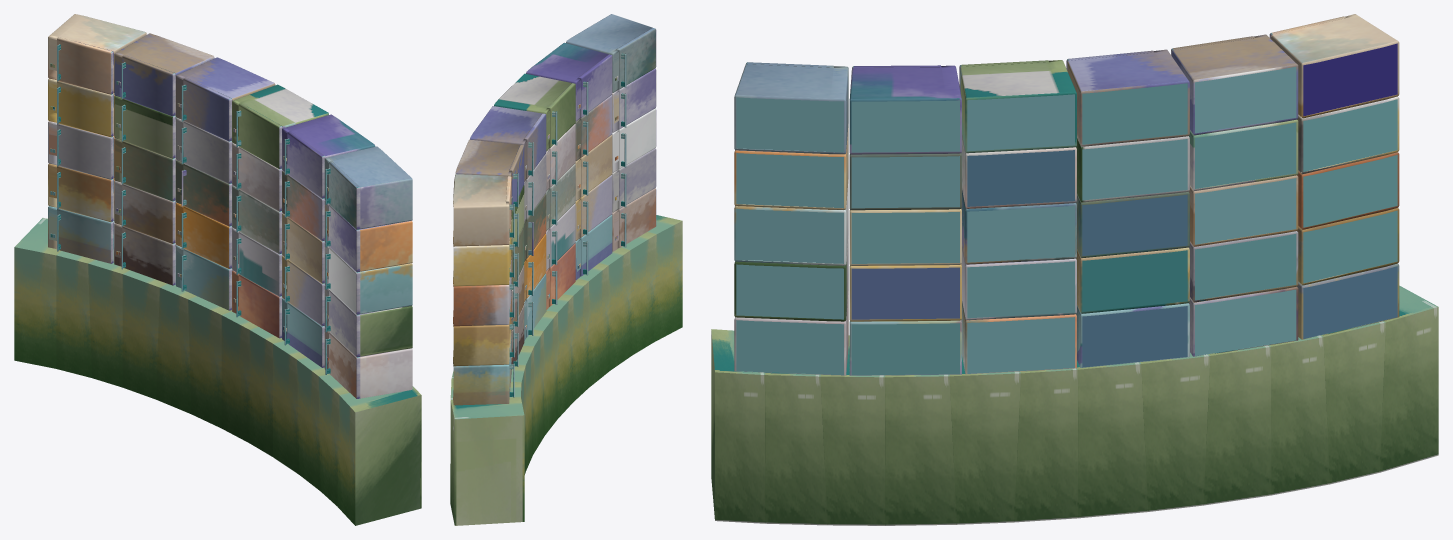
File: LO_cafe_cubes.glb
3 renders of one model, left to right at view 1: azimuth 30°, elevation 25°; view 2: azimuth 150°, elevation 25°; view 3: azimuth 270°, elevation 25°, orthographic. The views are drawn at different scales.
Visible parts, largest first — view 1: self-service cubbies; view 2: self-service cubbies; view 3: self-service cubbies.
Boxes of the visible parts, x1,y1,x2,y2 form: self-service cubbies: [14, 14, 421, 525]; self-service cubbies: [450, 14, 682, 525]; self-service cubbies: [711, 14, 1438, 525].
Size of the model in its own units: 1.12 by 2.14 by 3.32.
Materials: 1 (1 with a texture image).
